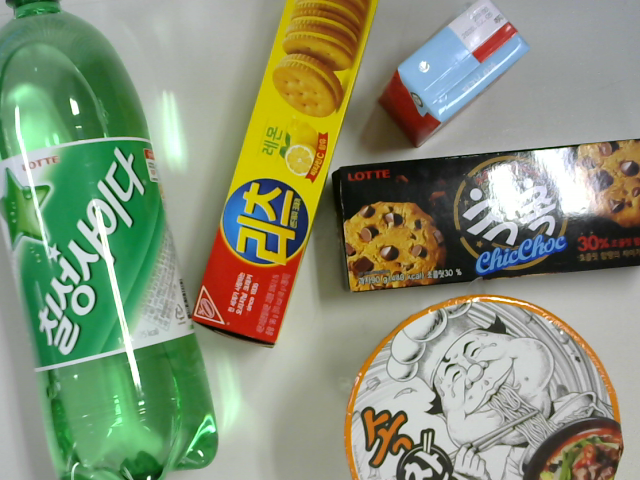Chicchok_Original_2400: (323, 131, 640, 297)
Chilseong_Cider_1.5L: (1, 1, 222, 480)
Hejangchan: (346, 292, 635, 480)
Picnic_Apple: (369, 1, 535, 153)
Ritz_Remon_96g: (180, 1, 385, 352)
